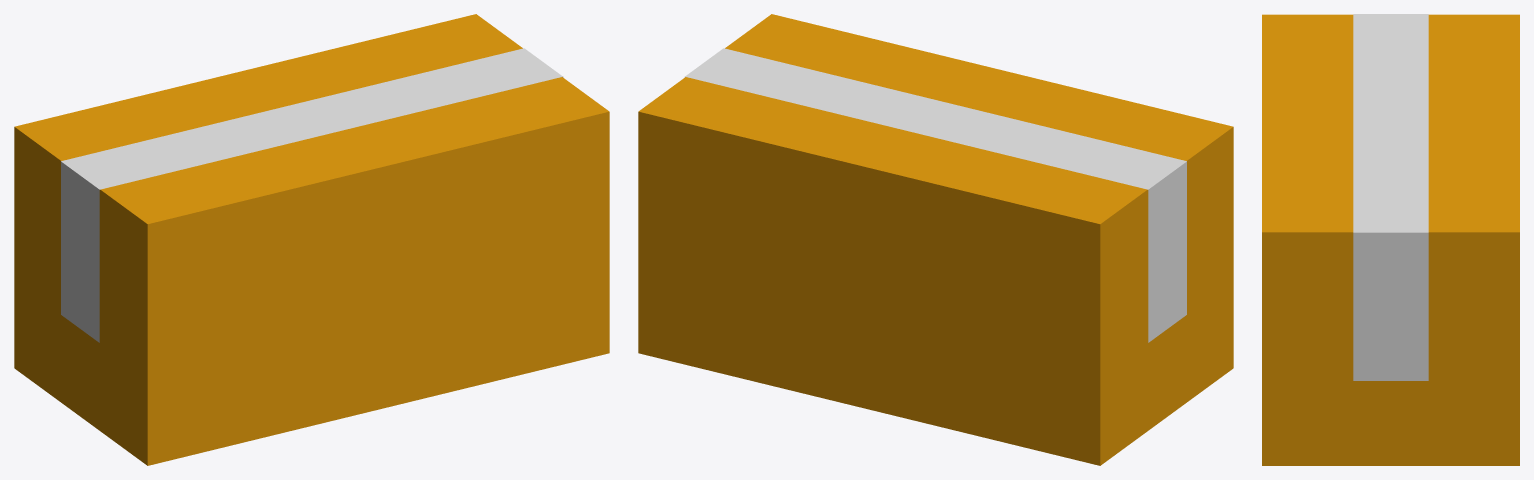
File: BoxBig.fbx
3 views of the same model, side by side, from view 1: azimuth 30°, elevation 25°; view 2: azimuth 150°, elevation 25°; view 3: azimuth 270°, elevation 25° (orthographic). The views are drawn at different scales.
Parts seen in each view (by area): view 1: Cube.028; view 2: Cube.028; view 3: Cube.028.
Part boxes in pixels (box(x1,y1,x2,y2)): Cube.028: box(14, 14, 609, 465); Cube.028: box(638, 14, 1233, 465); Cube.028: box(1262, 14, 1519, 465).
Size of the model in its own units: 40.14 by 20.01 by 20.
